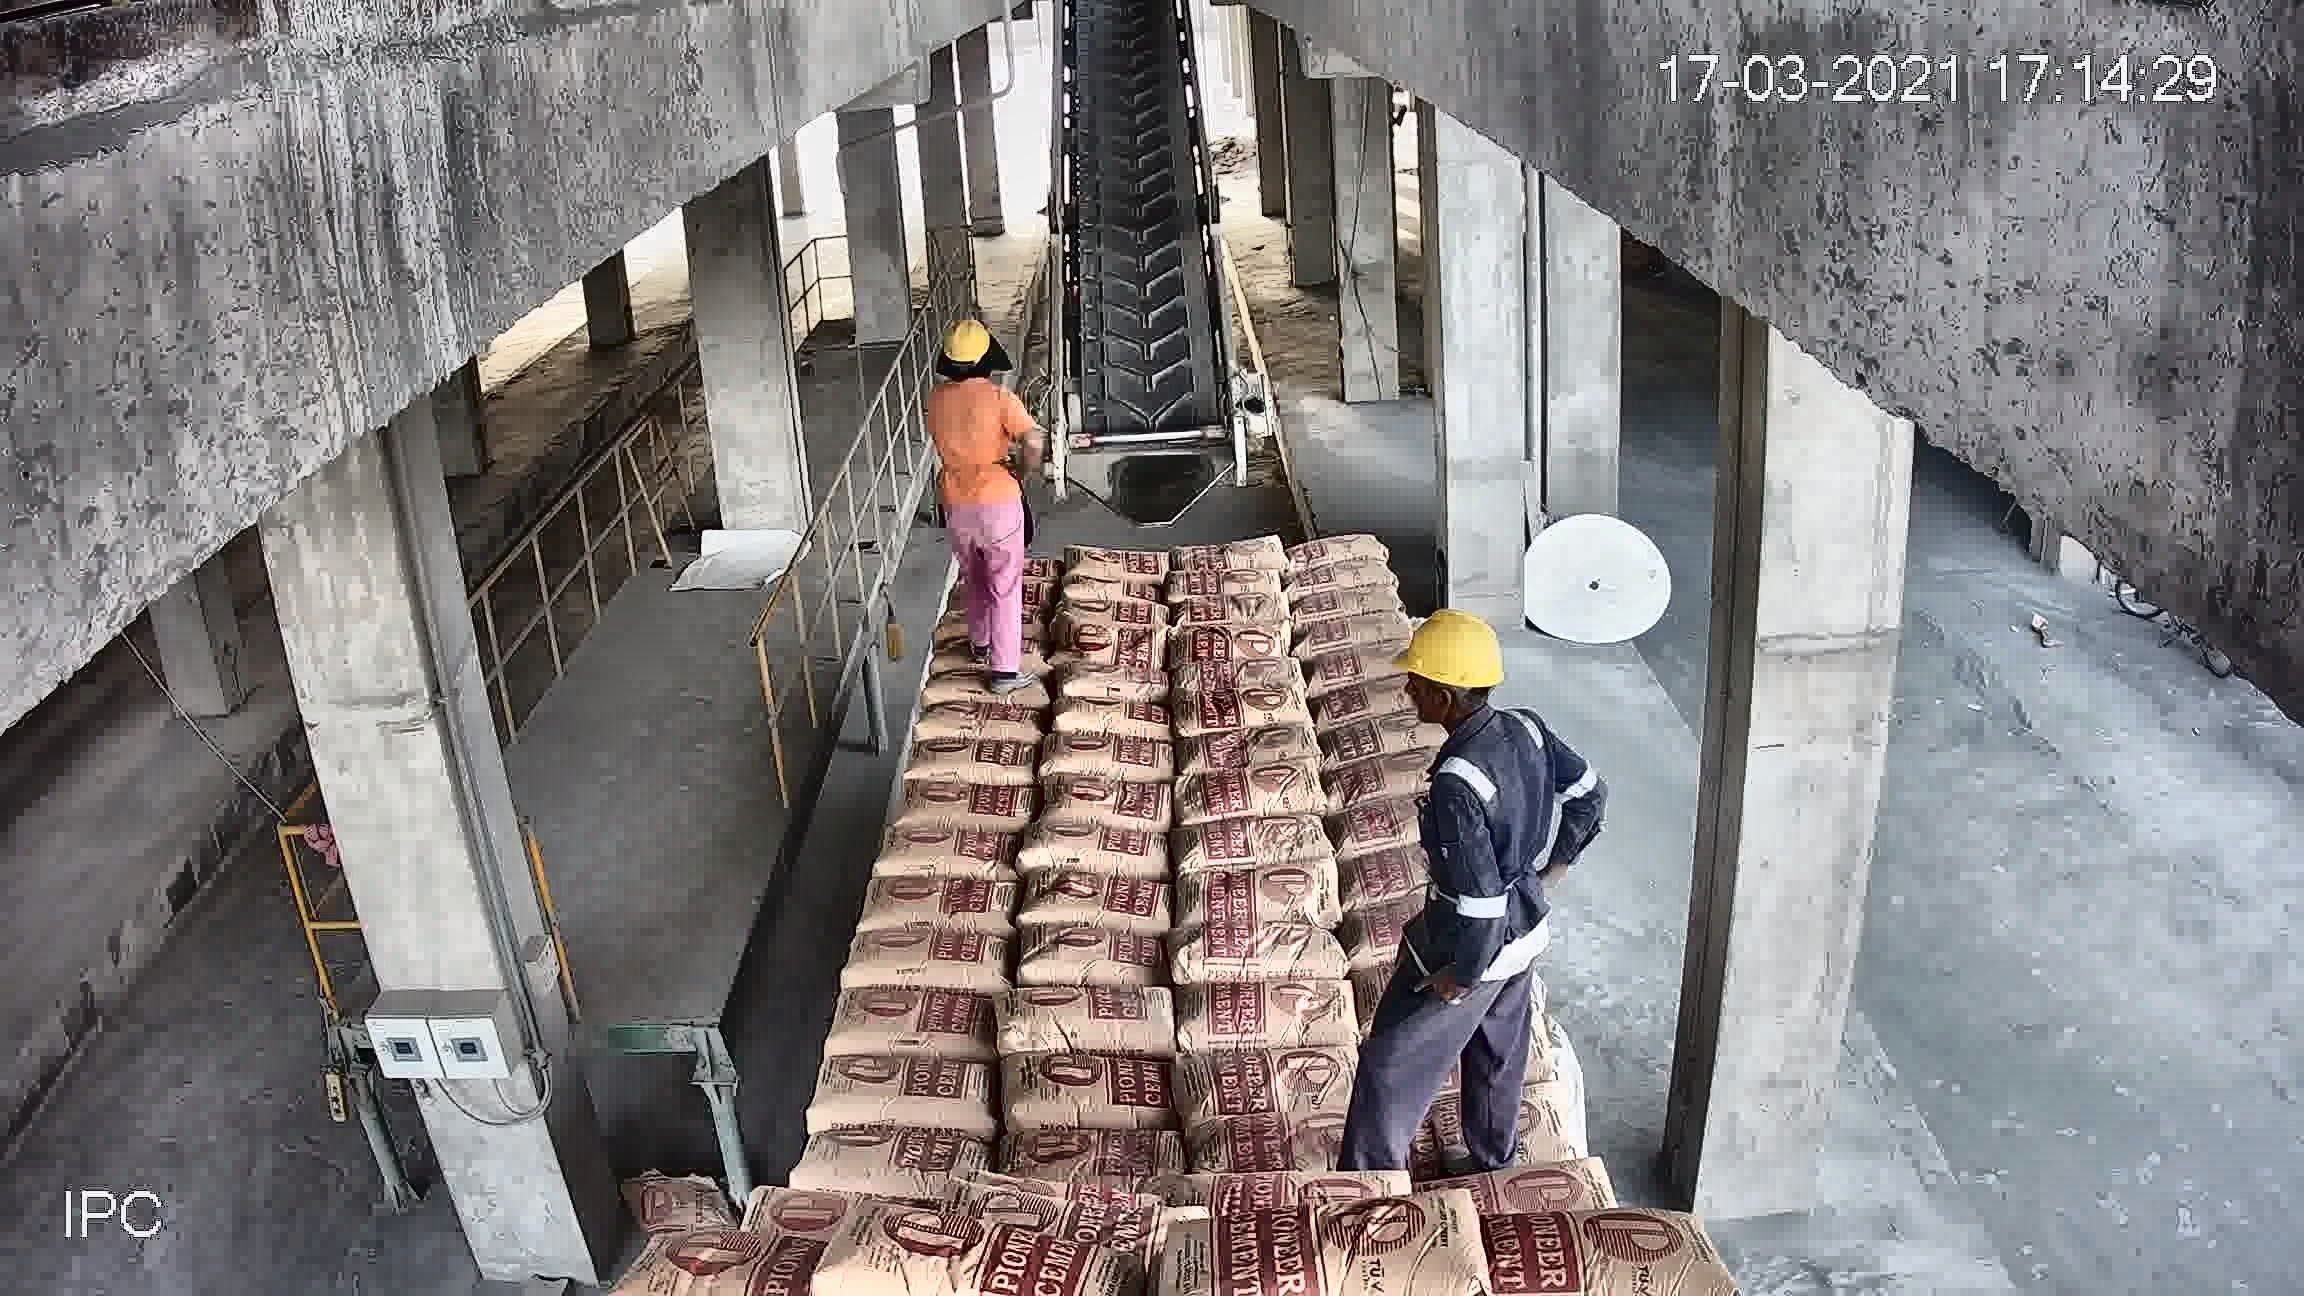bag_h: (1190, 1199, 1478, 1296), (804, 1215, 1144, 1296), (1381, 1086, 1586, 1179), (1491, 1211, 1704, 1294), (1163, 1036, 1362, 1124), (779, 1119, 984, 1199), (798, 1046, 999, 1125), (999, 1057, 1179, 1138), (1168, 983, 1359, 1059), (623, 1222, 828, 1293), (995, 984, 1184, 1060), (824, 980, 1002, 1059), (853, 870, 1021, 942), (1166, 916, 1343, 983), (999, 1124, 1188, 1185), (834, 926, 1010, 992), (1173, 859, 1332, 930), (1173, 758, 1323, 826), (1168, 807, 1321, 873), (1017, 817, 1161, 885), (1017, 932, 1179, 991), (1021, 873, 1177, 930), (1035, 772, 1174, 834), (888, 782, 1036, 836), (873, 828, 1021, 880), (902, 734, 1036, 788), (905, 699, 1052, 748), (1165, 687, 1309, 736), (1177, 717, 1317, 767), (1169, 650, 1309, 699), (1312, 753, 1429, 809), (1052, 612, 1157, 674), (1320, 711, 1431, 766), (1038, 739, 1166, 786), (908, 663, 1044, 707), (1166, 617, 1291, 661), (1059, 657, 1169, 706), (1287, 578, 1400, 622), (1049, 698, 1158, 744), (1328, 848, 1408, 908), (1169, 540, 1287, 579), (1166, 590, 1291, 627), (1305, 641, 1412, 684), (1063, 536, 1169, 579), (1301, 616, 1415, 655), (1168, 563, 1287, 601), (1332, 798, 1408, 856), (1287, 524, 1389, 567), (1057, 590, 1174, 627), (1313, 680, 1407, 725), (1055, 571, 1166, 604), (1293, 559, 1397, 592)
belt: (1041, 0, 1239, 498)
